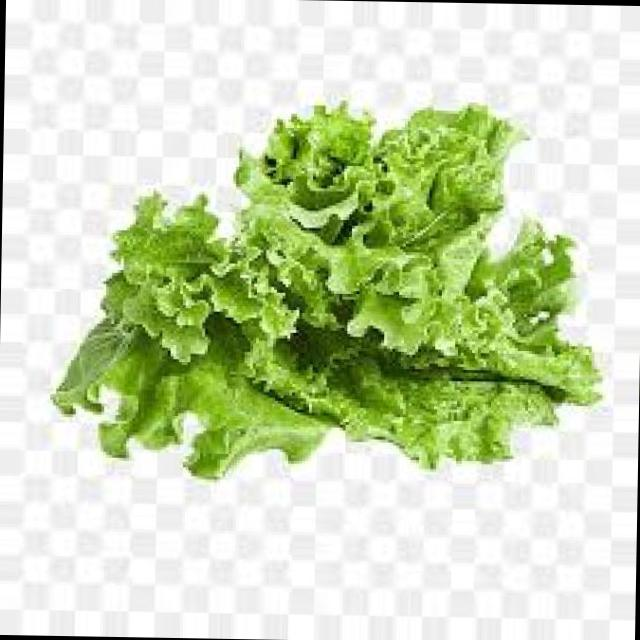Lettuce-Ready-to-Harvest: (54, 104, 597, 476)
